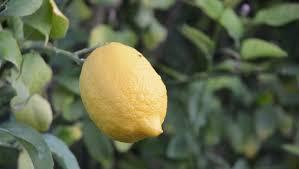lemon: (78, 42, 168, 144)
